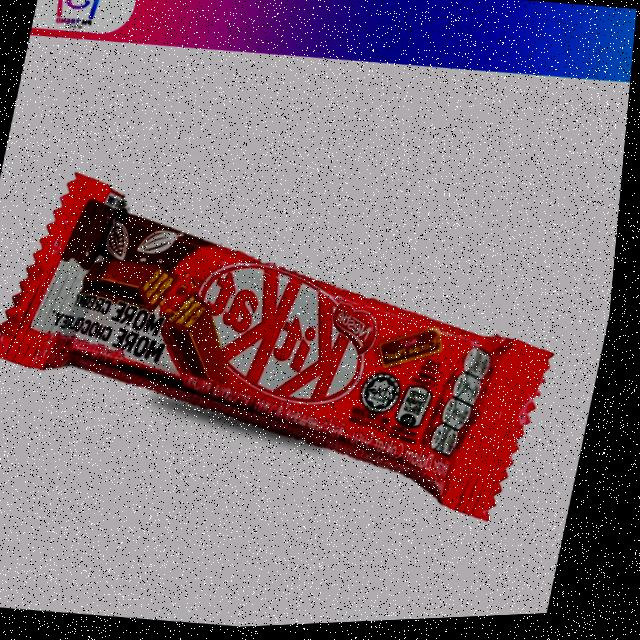kitkat: (0, 151, 595, 550)
